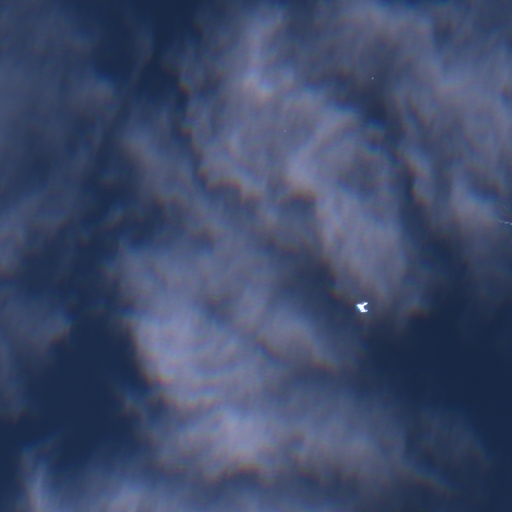Iceberg: (355, 301, 368, 312), (371, 77, 373, 79), (284, 130, 285, 131)
